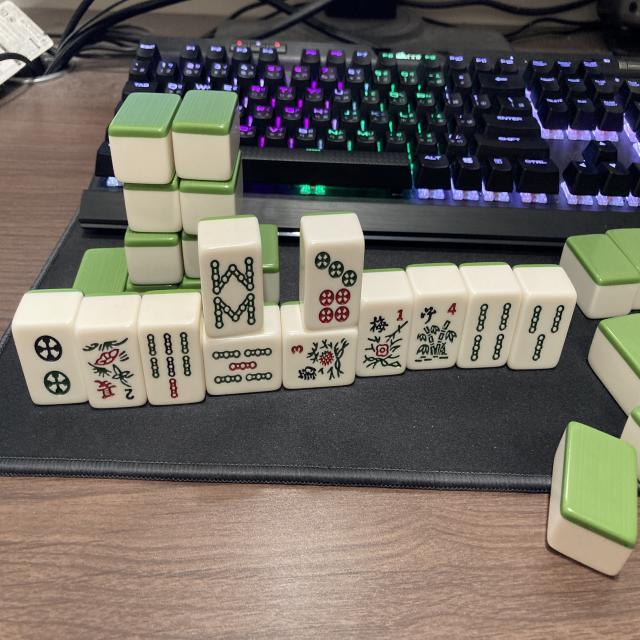f1: (358, 304, 412, 377)
f3: (285, 333, 357, 387)
f4: (409, 301, 464, 371)
ff2: (78, 330, 146, 408)
s3: (516, 299, 570, 369)
s4: (461, 300, 518, 370)
s5: (207, 339, 280, 392)
s7: (141, 327, 205, 404)
s8: (204, 252, 263, 336)
t2: (13, 325, 87, 404)
t7: (303, 245, 361, 332)
